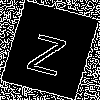Z: (25, 24, 71, 76)
